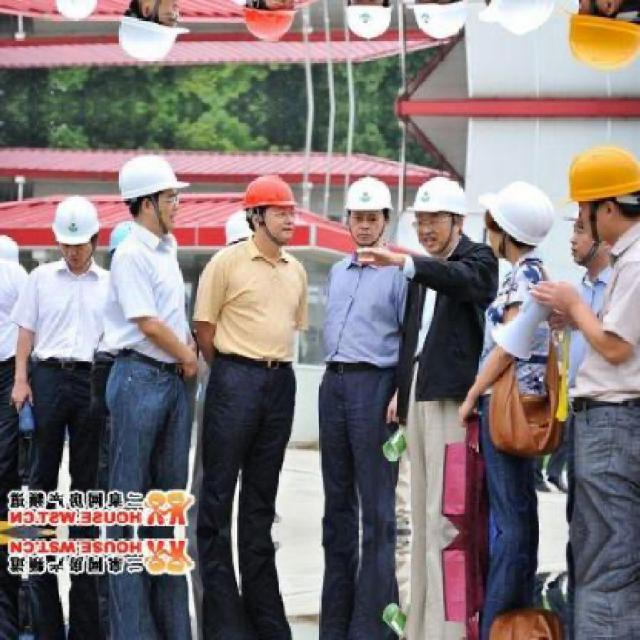helmet: (565, 137, 640, 246), (488, 180, 562, 268), (565, 0, 640, 77), (114, 146, 180, 232), (411, 174, 475, 252), (114, 0, 181, 68), (238, 170, 298, 242), (340, 171, 394, 246), (51, 190, 100, 268), (238, 0, 300, 43), (410, 0, 476, 40), (486, 0, 562, 34), (340, 0, 395, 43), (49, 0, 100, 23)
